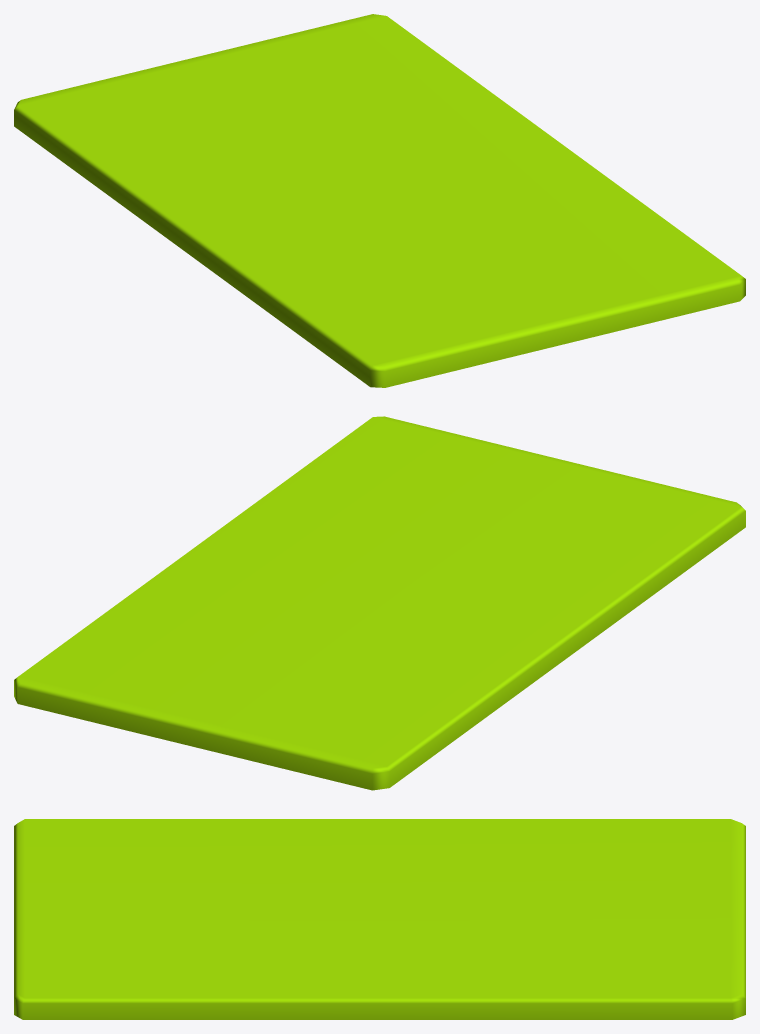
Rendered from Mode_tapis.fbx.
3 renders of one model, top to bottom at view 1: azimuth 30°, elevation 25°; view 2: azimuth 150°, elevation 25°; view 3: azimuth 270°, elevation 25°, orthographic.
Parts seen in each view (by area): view 1: tapis; view 2: tapis; view 3: tapis.
Part boxes in pixels (x1,y1,x2,y2): tapis: (14,14,745,387); tapis: (14,416,745,790); tapis: (14,819,745,1019).
Bounding box in the file's own units: 147 × 7.58 × 249.
